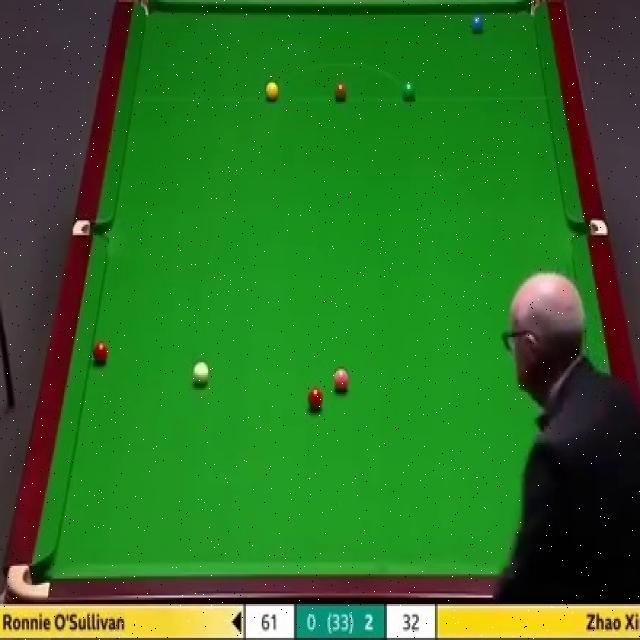blue-ball: (470, 14, 485, 34)
brown-ball: (333, 83, 348, 100)
green-ball: (402, 78, 416, 104)
pink-ball: (333, 368, 347, 393)
red-ball: (93, 340, 109, 365), (307, 386, 323, 410)
white-ball: (192, 360, 210, 386)
yellow-ball: (264, 80, 280, 102)
